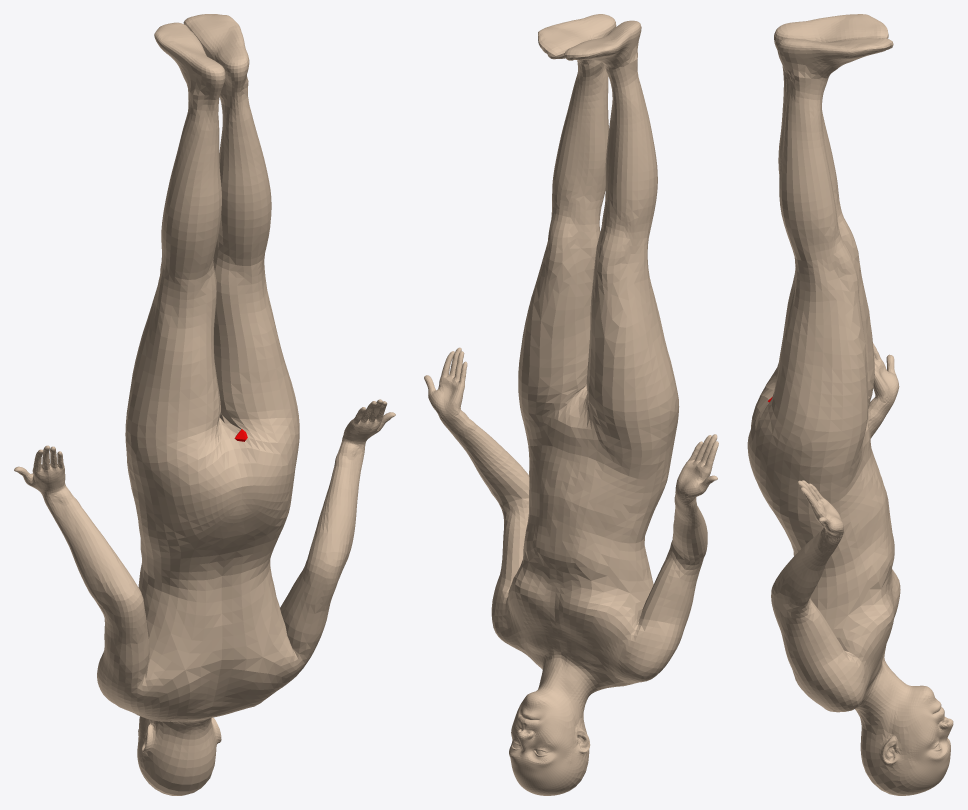
Rendered from body_coccyx_dot.obj.
3 views of the same model, side by side, from view 1: azimuth 30°, elevation 25°; view 2: azimuth 150°, elevation 25°; view 3: azimuth 270°, elevation 25° (orthographic). The views are drawn at different scales.
Visible parts, largest first — view 1: Body; view 2: Body; view 3: Body.
Part boxes in pixels (bbox=[...]): Body: bbox=[14, 14, 395, 795]; Body: bbox=[424, 14, 718, 795]; Body: bbox=[747, 14, 953, 795].
Bounding box in the file's own units: 0.8296 × 1.8 × 0.4412.
